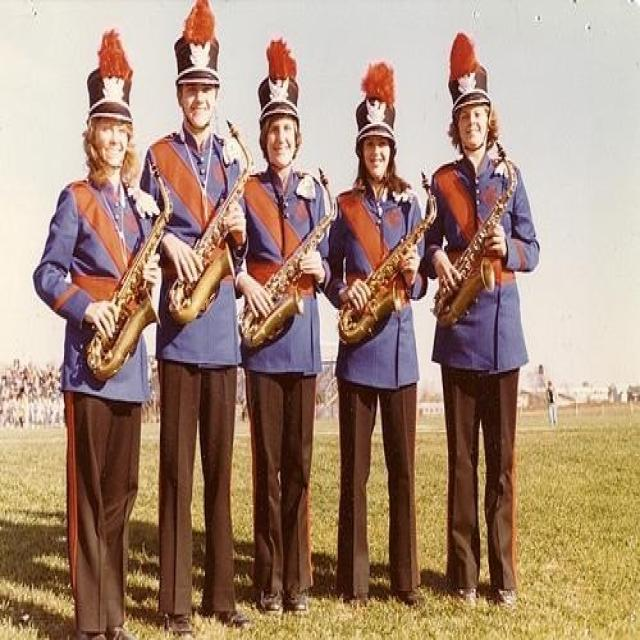saxophone: (85, 144, 178, 382), (236, 166, 338, 352), (166, 116, 254, 328), (336, 168, 439, 346), (428, 139, 517, 332)
